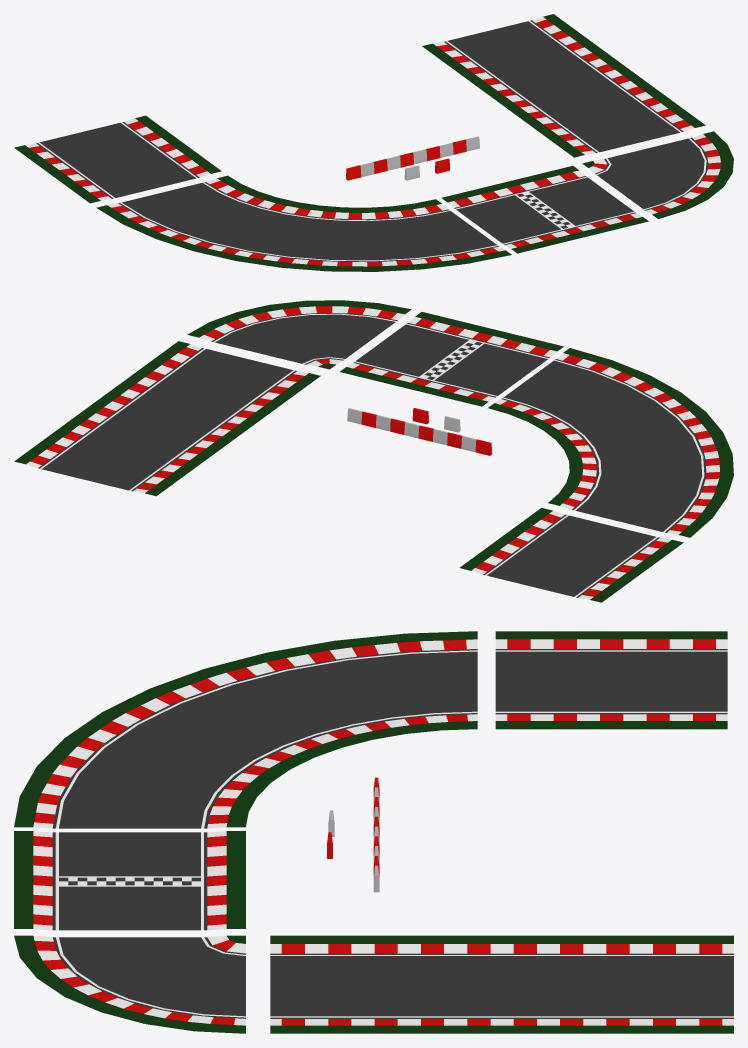
3 renders of one model, top to bottom at view 1: azimuth 30°, elevation 25°; view 2: azimuth 150°, elevation 25°; view 3: azimuth 270°, elevation 25°, orthographic. The views are drawn at different scales.
Parts seen in each view (by area): view 1: Track_Corner_90d_type_01_30x30m_free_4, Track_line_type_01_30m_free_6, Track_line_type_01_start_finish_15m_free_7, Track_line_type_01_15m_free_5, Track_Corner_90d_type_01_15x15m_free_3, Track_Fence_line_type_01_15m_free_2; view 2: Track_Corner_90d_type_01_30x30m_free_4, Track_line_type_01_30m_free_6, Track_line_type_01_15m_free_5, Track_line_type_01_start_finish_15m_free_7, Track_Corner_90d_type_01_15x15m_free_3, Track_Fence_line_type_01_15m_free_2; view 3: Track_Corner_90d_type_01_30x30m_free_4, Track_line_type_01_30m_free_6, Track_line_type_01_15m_free_5, Track_line_type_01_start_finish_15m_free_7, Track_Corner_90d_type_01_15x15m_free_3, Track_Fence_line_type_01_15m_free_2.
Boxes of the visible parts, left/top/right/bottom form: Track_Corner_90d_type_01_30x30m_free_4: left=96, top=175, right=511, bottom=271; Track_line_type_01_30m_free_6: left=422, top=14, right=705, bottom=157; Track_line_type_01_start_finish_15m_free_7: left=441, top=166, right=648, bottom=253; Track_line_type_01_15m_free_5: left=14, top=115, right=221, bottom=203; Track_Corner_90d_type_01_15x15m_free_3: left=582, top=131, right=733, bottom=218; Track_Fence_line_type_01_15m_free_2: left=346, top=136, right=479, bottom=180; Track_Corner_90d_type_01_30x30m_free_4: left=488, top=348, right=733, bottom=537; Track_line_type_01_30m_free_6: left=14, top=341, right=320, bottom=496; Track_line_type_01_15m_free_5: left=459, top=508, right=683, bottom=602; Track_line_type_01_start_finish_15m_free_7: left=340, top=312, right=563, bottom=406; Track_Corner_90d_type_01_15x15m_free_3: left=187, top=300, right=411, bottom=369; Track_Fence_line_type_01_15m_free_2: left=347, top=408, right=491, bottom=455; Track_Corner_90d_type_01_30x30m_free_4: left=14, top=631, right=477, bottom=828; Track_line_type_01_30m_free_6: left=270, top=935, right=733, bottom=1033; Track_line_type_01_15m_free_5: left=495, top=631, right=727, bottom=729; Track_line_type_01_start_finish_15m_free_7: left=14, top=831, right=245, bottom=930; Track_Corner_90d_type_01_15x15m_free_3: left=14, top=935, right=245, bottom=1033; Track_Fence_line_type_01_15m_free_2: left=373, top=777, right=379, bottom=892.
Bounding box in the file's own units: 61.63 × 1.2 × 46.57.
1 material, 1 textured.
